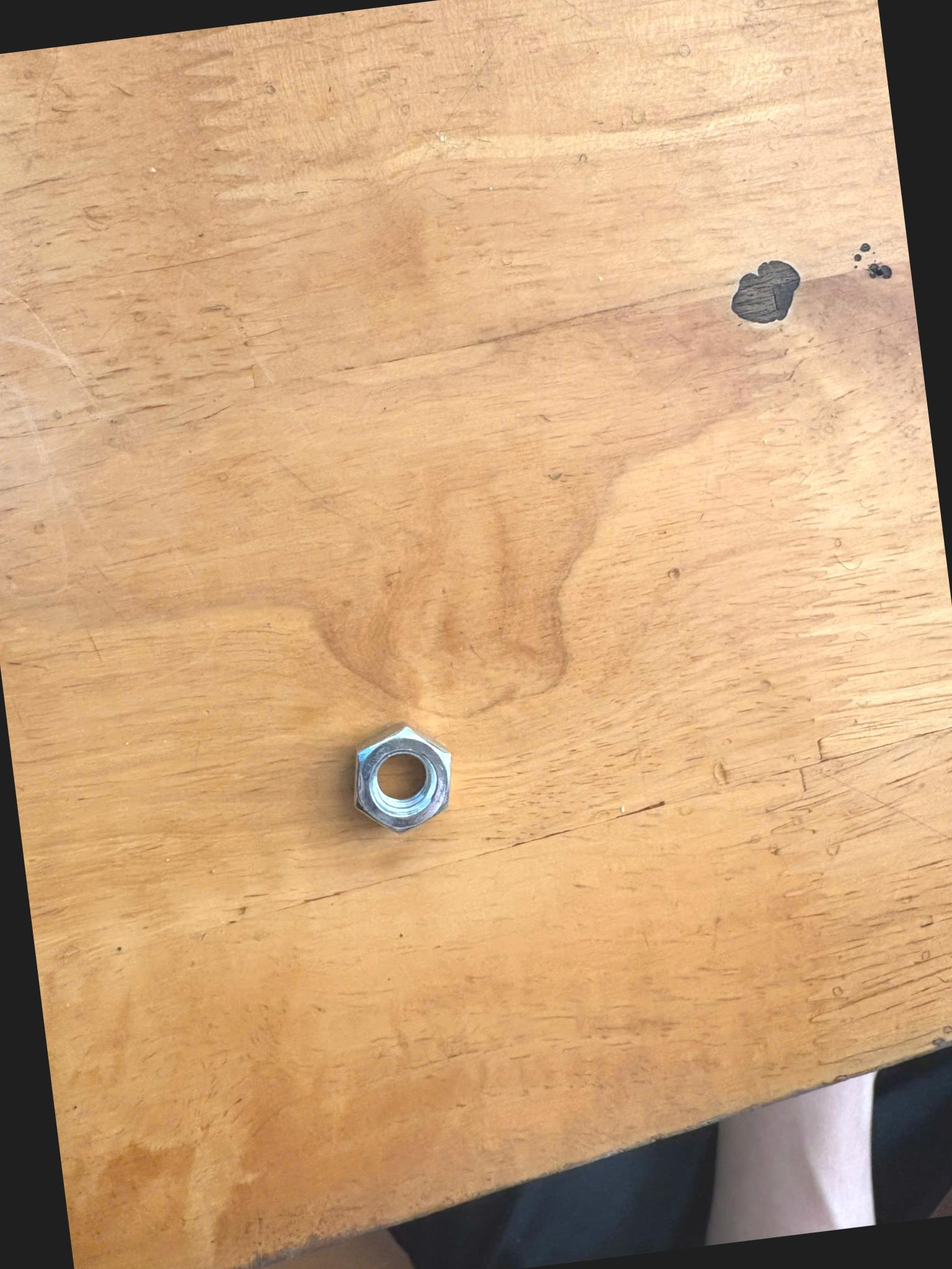nut: (336, 717, 476, 850)
